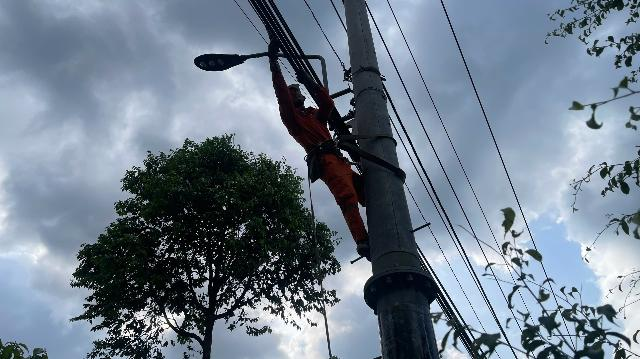gloves: (263, 38, 285, 70), (294, 65, 323, 89)
harness: (301, 132, 371, 161)
helmet: (281, 78, 307, 95)
shoes: (345, 231, 378, 261)
